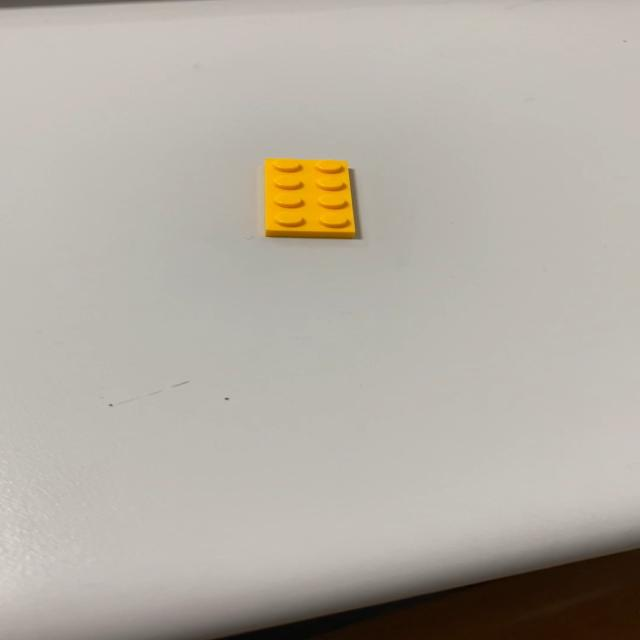C4x2x0: (263, 157, 358, 238)
